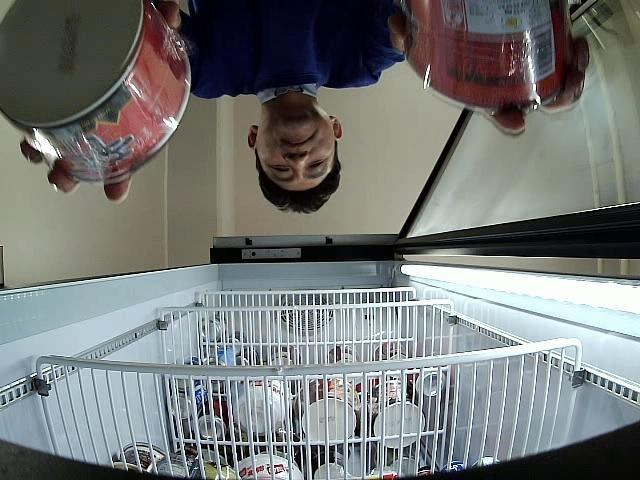01_ShinRamen_L: (0, 0, 192, 186), (405, 0, 572, 114)
